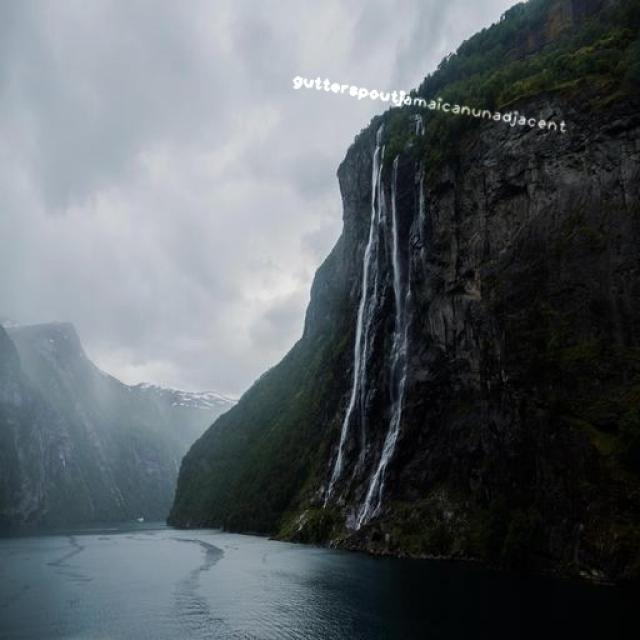watermark: (286, 72, 576, 134)
